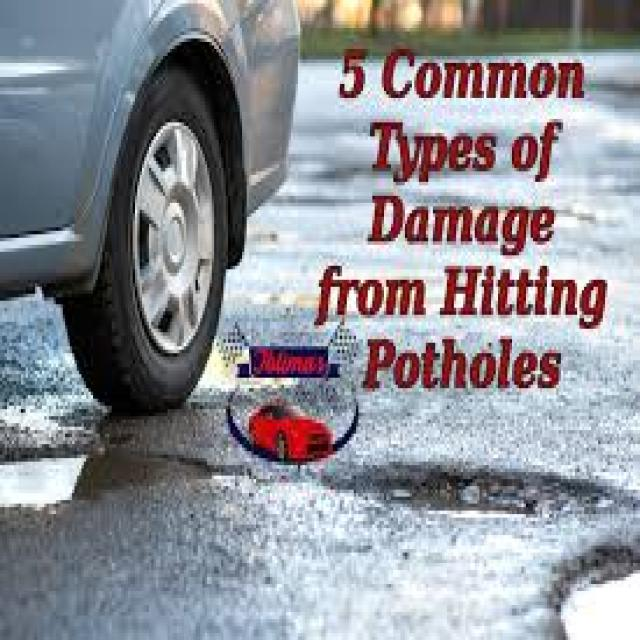Pothole: (330, 455, 640, 518)
